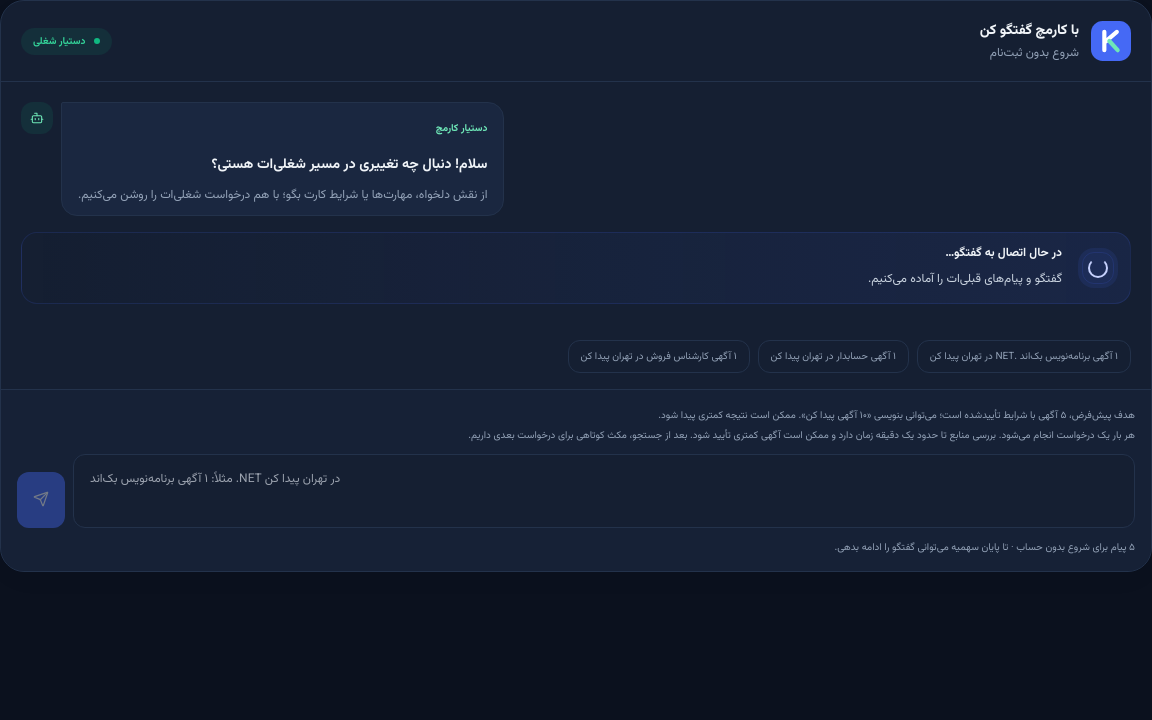
Scenario: Guest conversation › keeps the draft after failure and successfully retries
Step 1. Type "Backend" into the text box named "پیام شما" → {"x": 604, "y": 491}, box [73,454,1135,528]
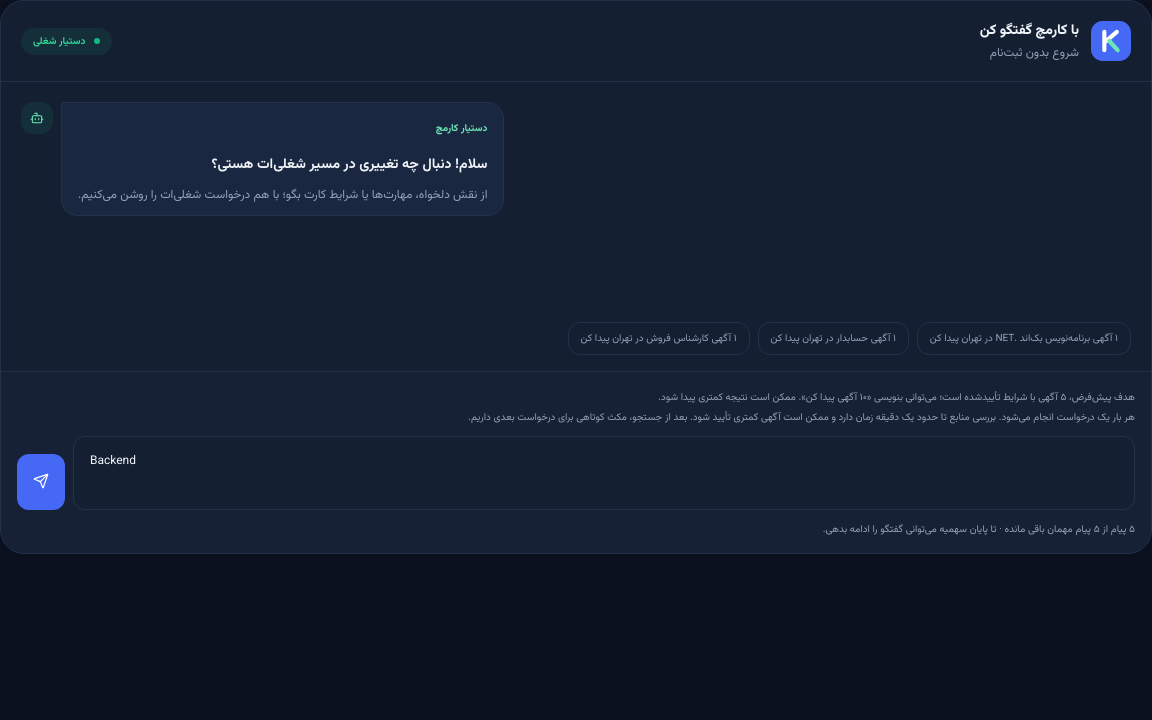
Expected: the button named "ارسال پیام" is enabled
Step 2. Click the button named "ارسال پیام" → {"x": 41, "y": 482}, box [17,454,65,510]
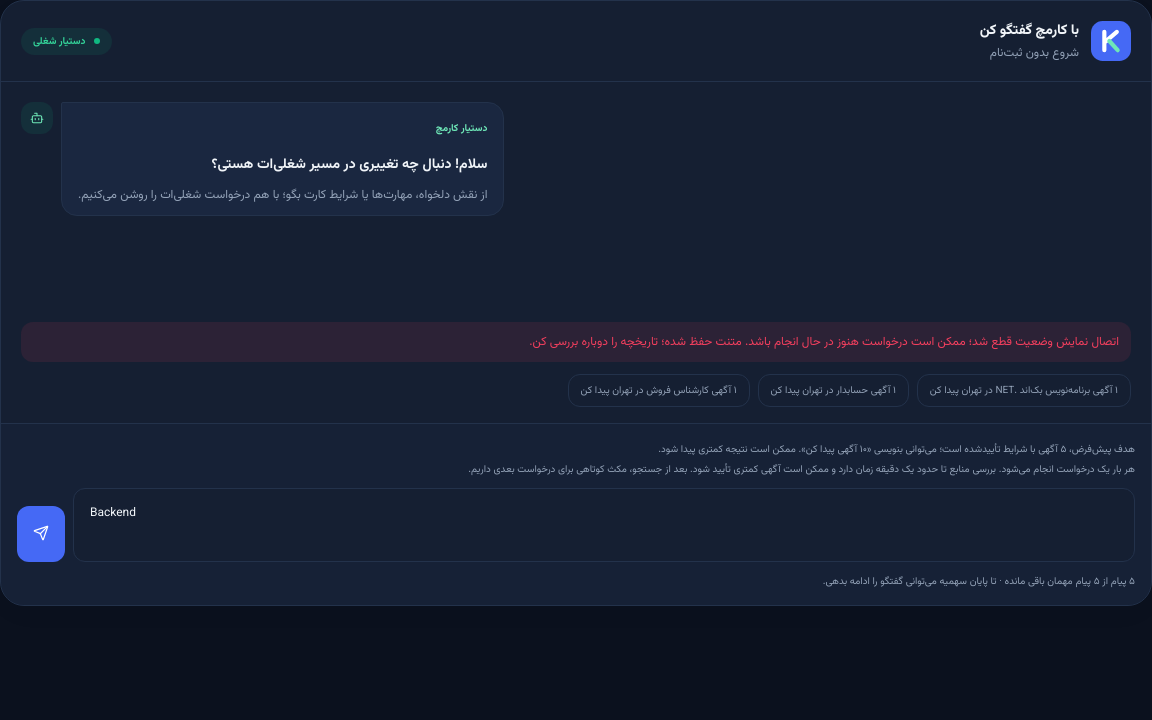
Expected: the message is shown, [21,322,1131,362]
Step 3. Click the button named "ارسال پیام" → {"x": 41, "y": 534}, box [17,506,65,562]
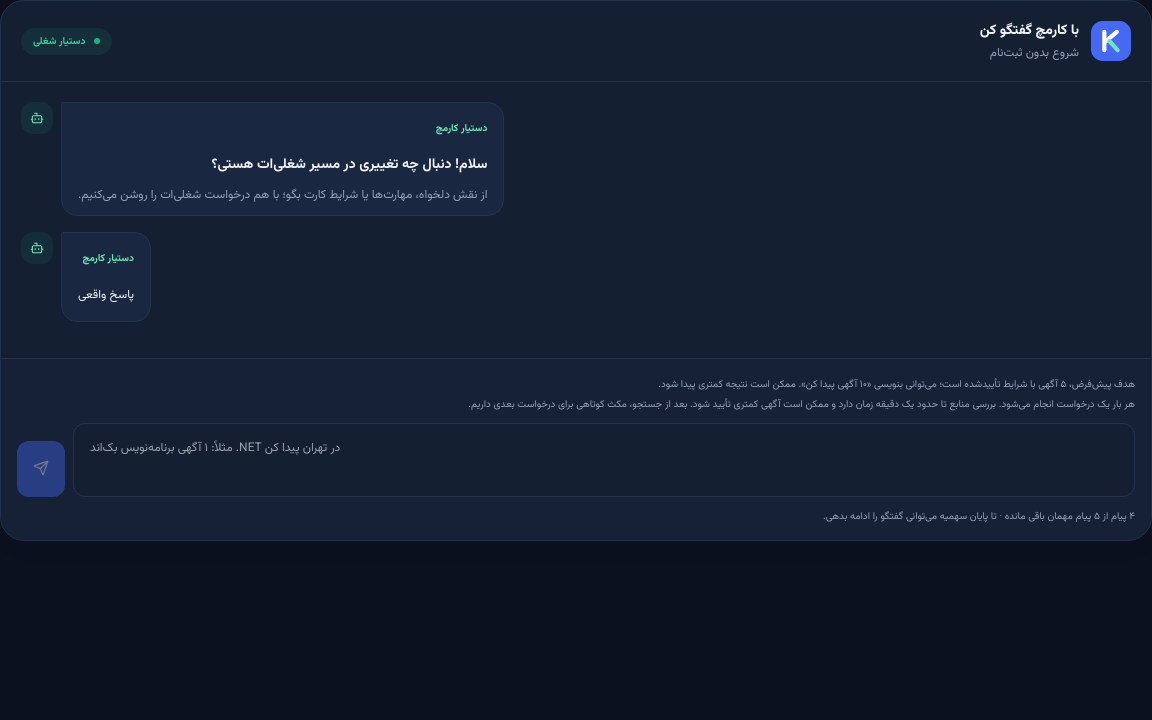
Expected: the text "پاسخ واقعی" is shown, [78,281,134,309]
Expected: the text box named "پیام شما" is empty, [73,423,1135,497]
